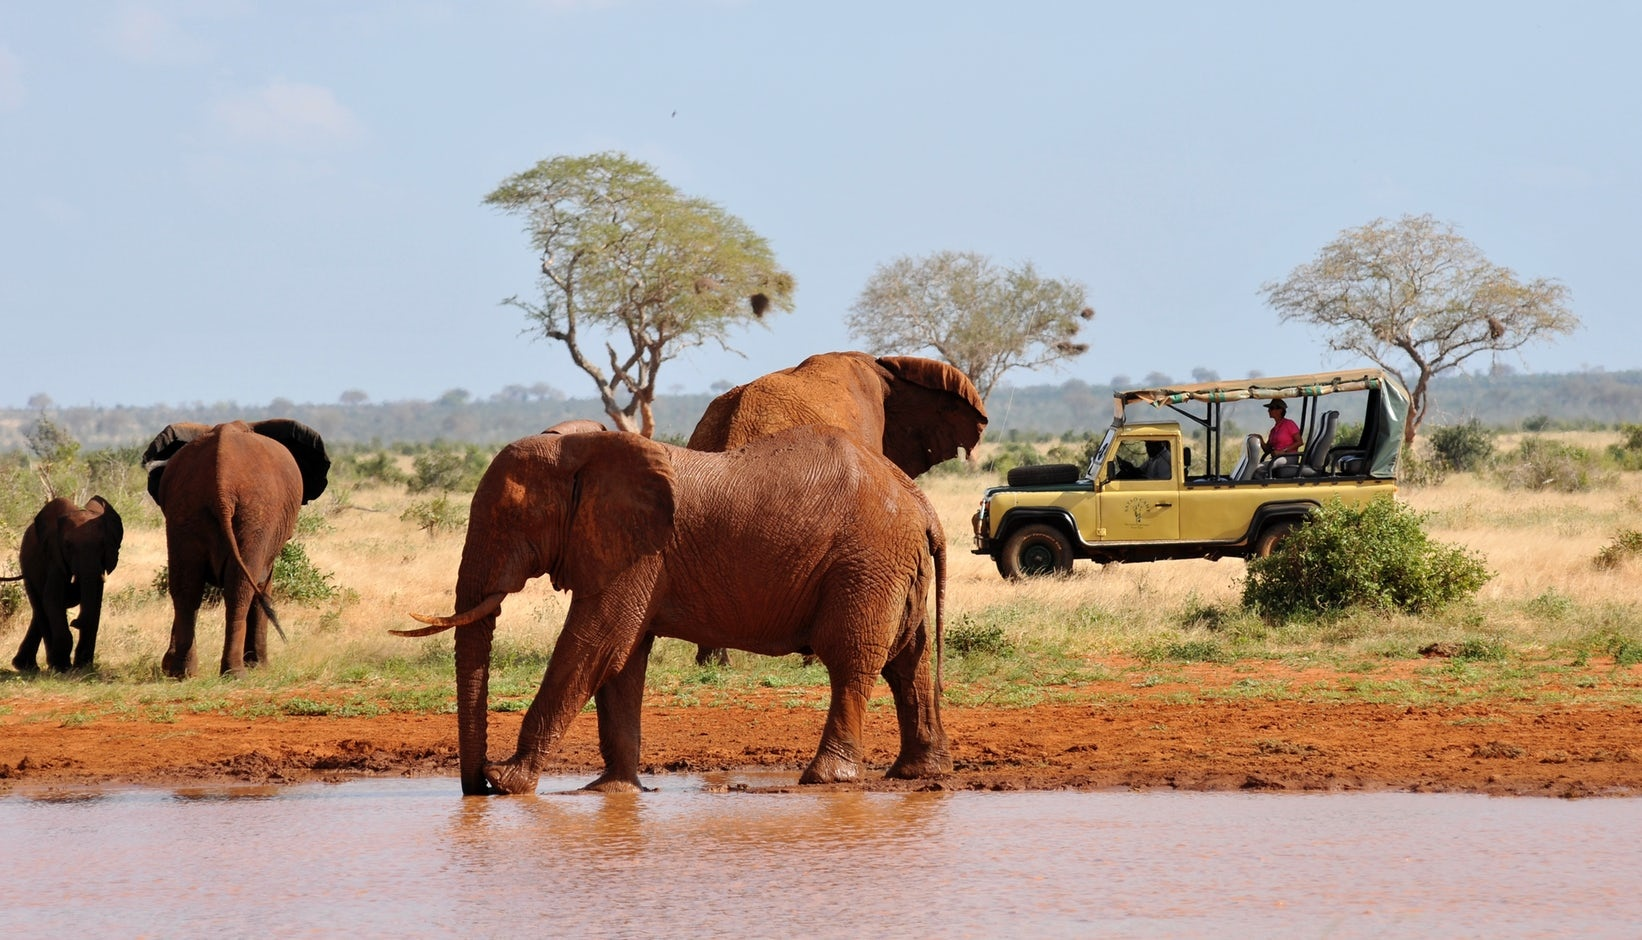elephant: (666, 611, 1234, 940), (833, 511, 1146, 822), (242, 539, 436, 787), (67, 580, 182, 770)
